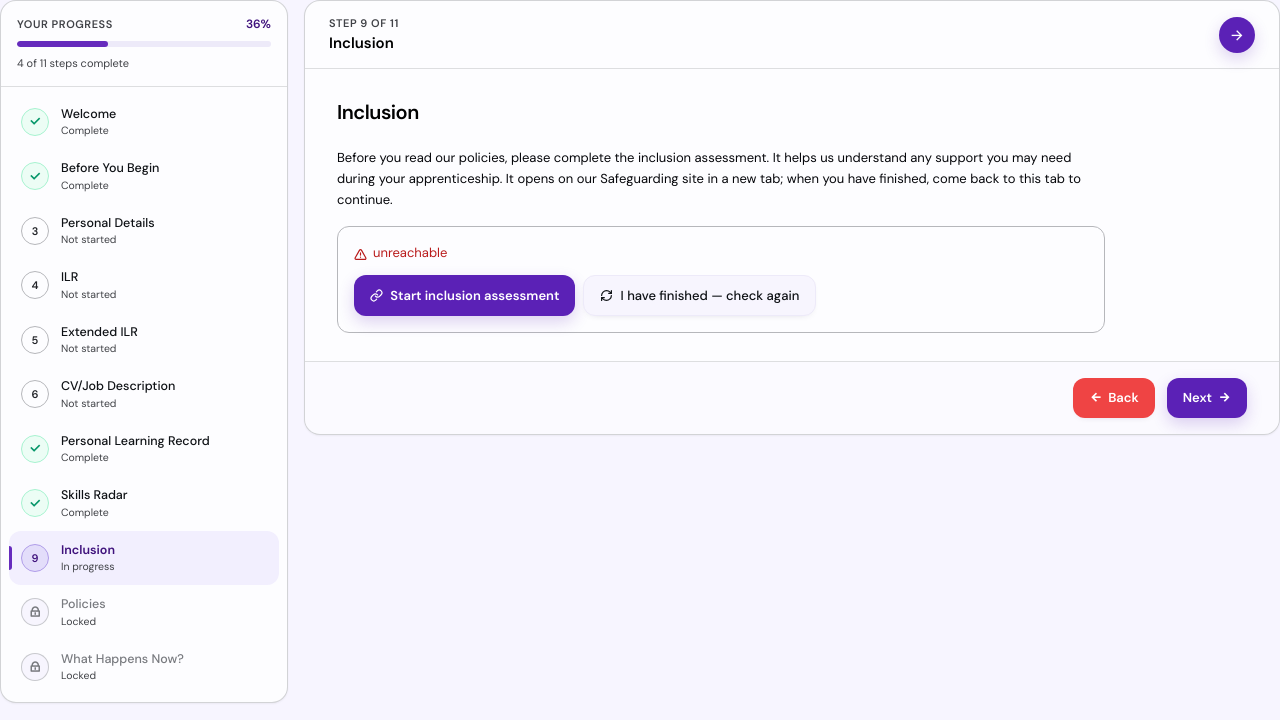
the Inclusion step › is never written with the saved answers, and a saved status is not trusted
Expected: the text "unreachable" is shown, [354,244,447,261]
Click the button "I have finished — check again" at coordinates (700, 296), box [583,275,816,316]
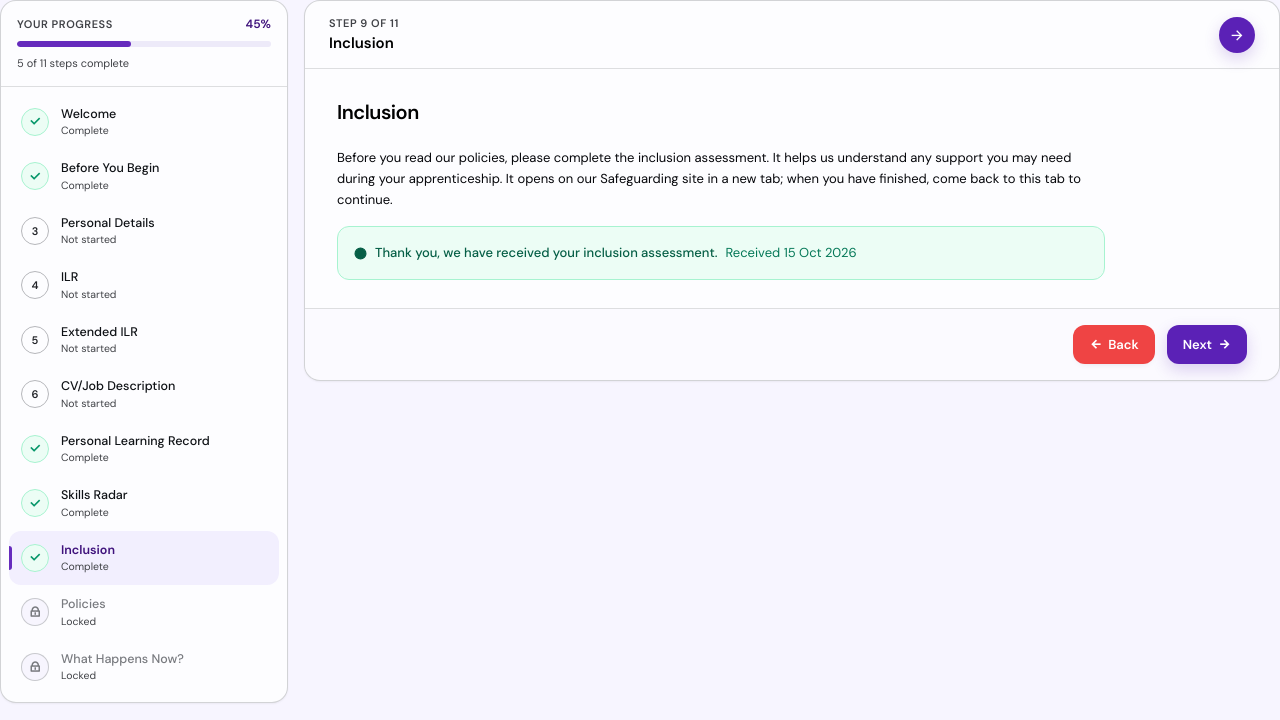
Now the text "Thank you, we have received your inclusion assessment." is shown, box [375,244,718,261]
